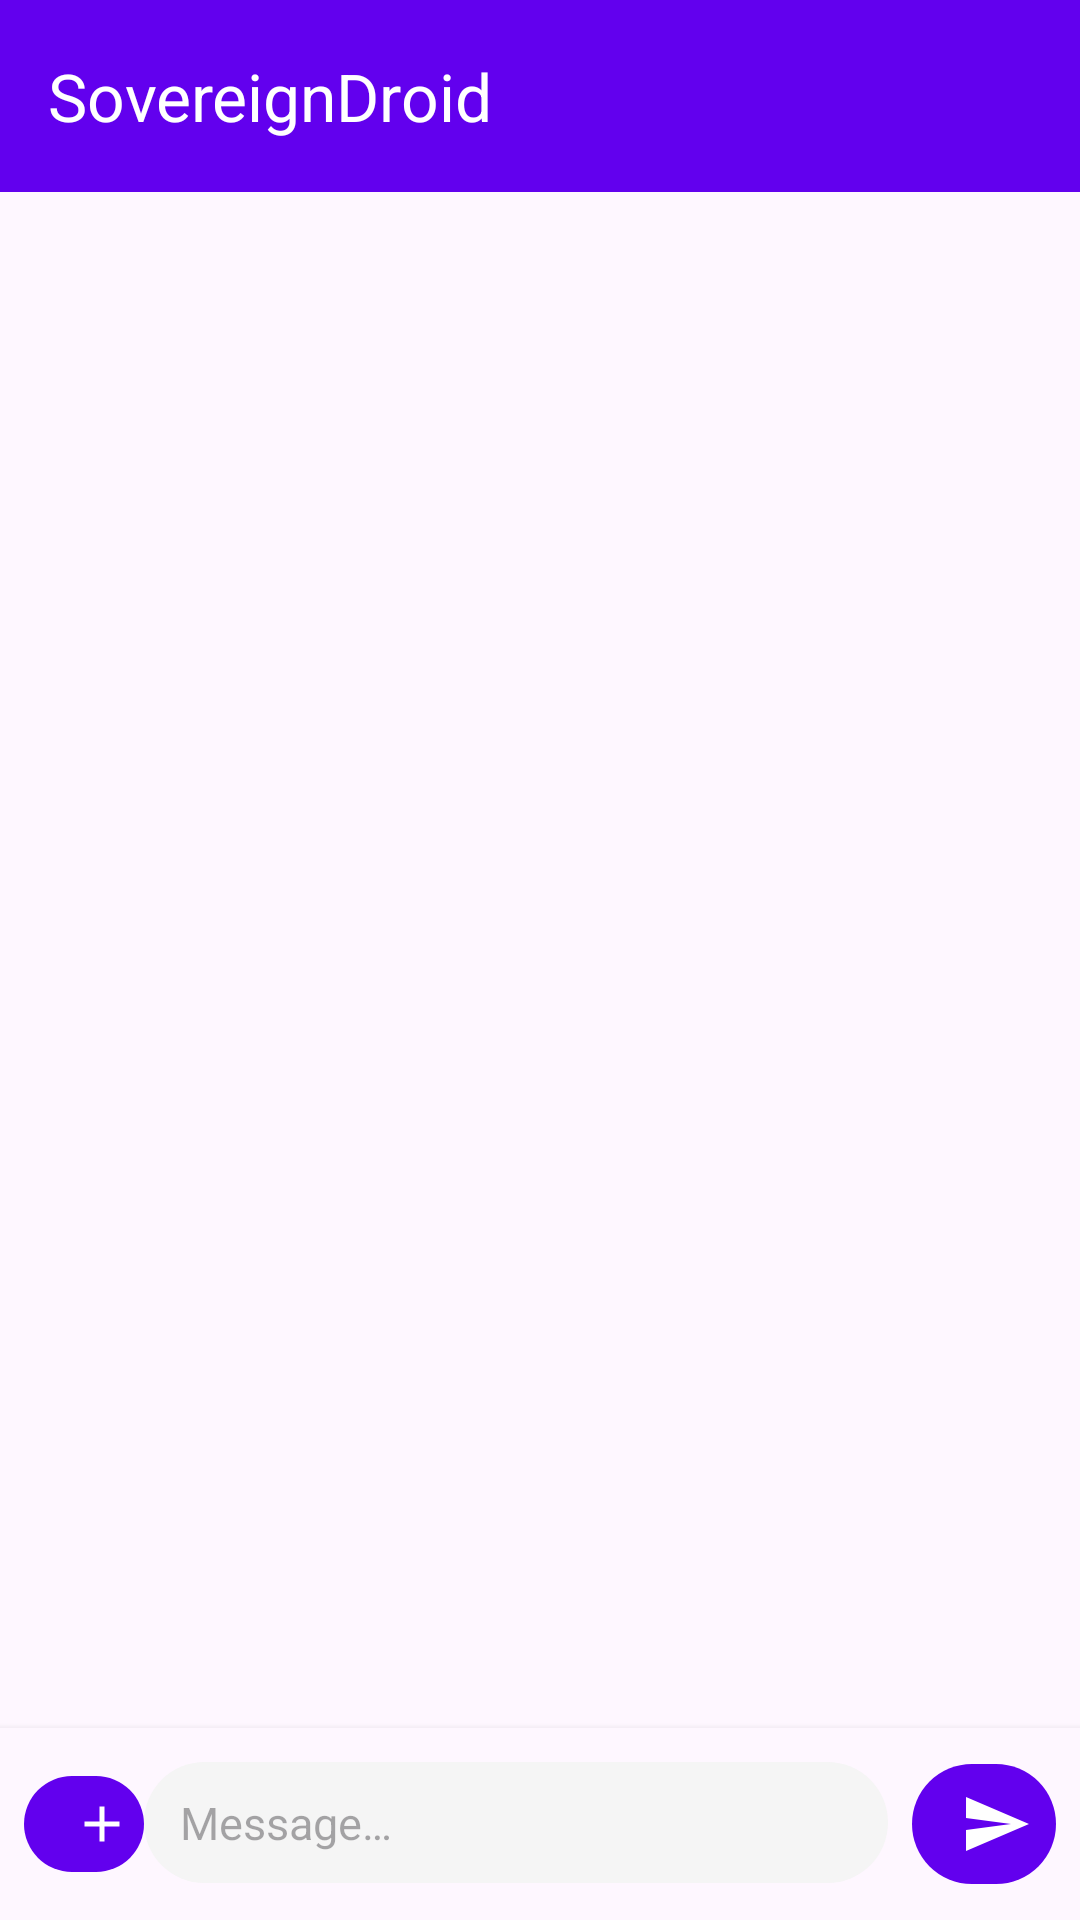

Icons on this 1080*1920 Android screen, each with its box as (x1, y1, x2, y2):
Attach image: (24, 1776, 144, 1872)
Send: (912, 1764, 1056, 1884)
